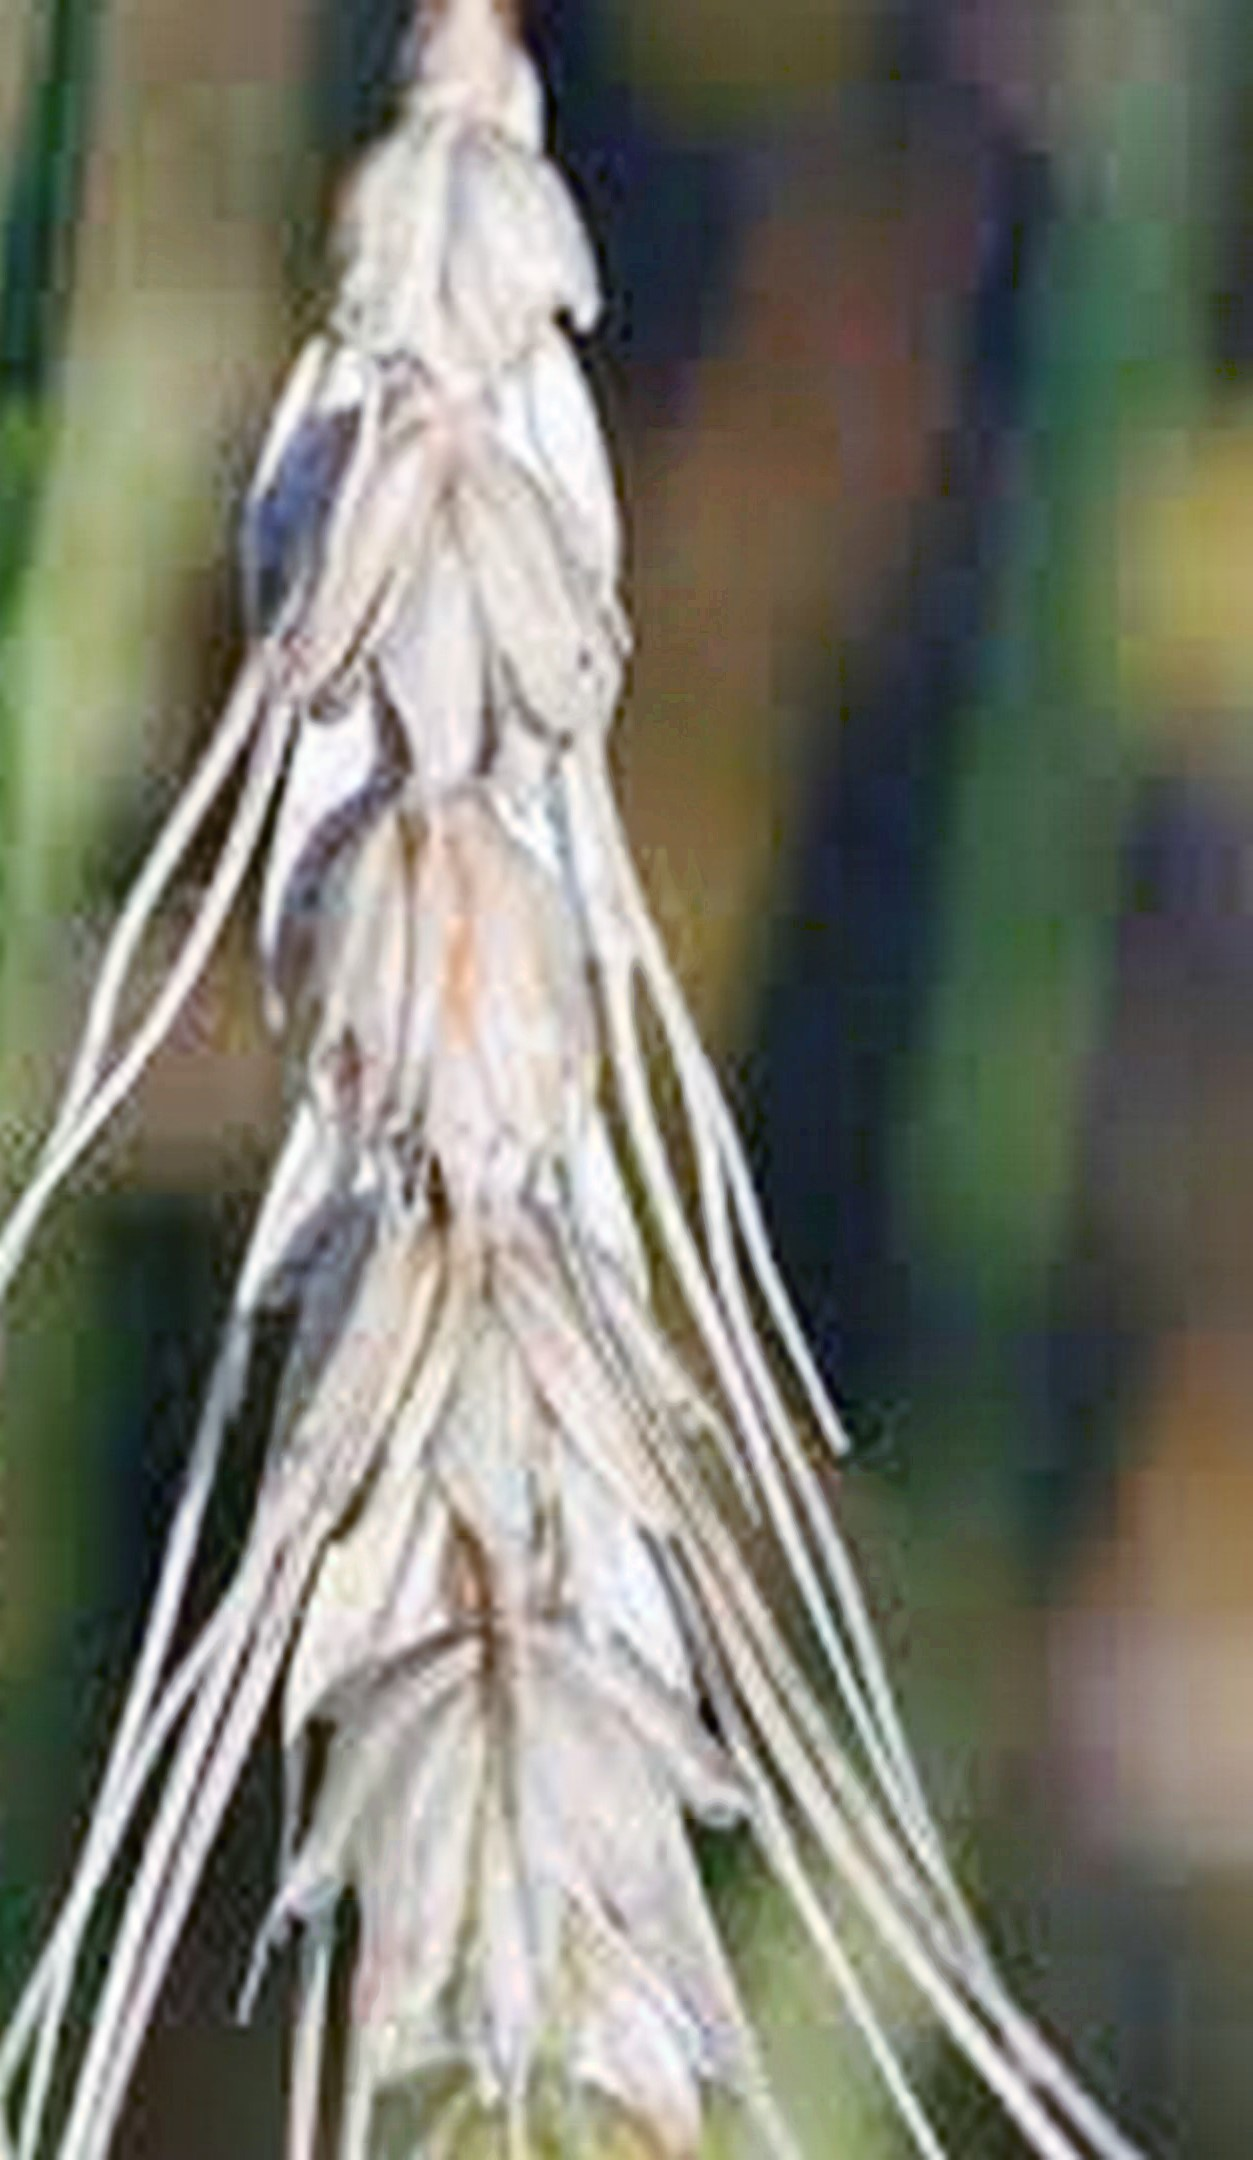Wheat scab: (180, 84, 826, 2160)
